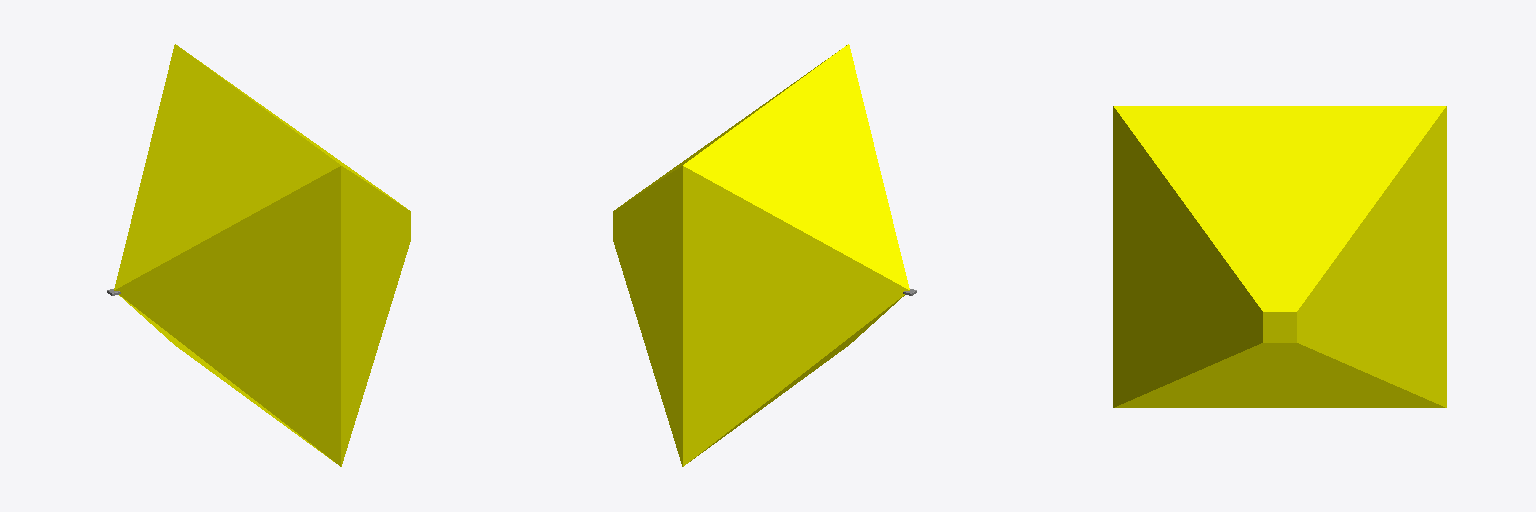
The model's file is mis_obj_MoveFloor3_HD.obj.
3 views of the same model, side by side, from view 1: azimuth 30°, elevation 25°; view 2: azimuth 150°, elevation 25°; view 3: azimuth 270°, elevation 25° (orthographic).
Visible parts, largest first — view 1: wave; view 2: wave; view 3: wave.
Boxes of the visible parts, <box> form: wave: <box>114,44,410,466</box>; wave: <box>613,44,909,466</box>; wave: <box>1113,106,1446,407</box>.
Size of the model in its own units: 3654 by 3600 by 3600.